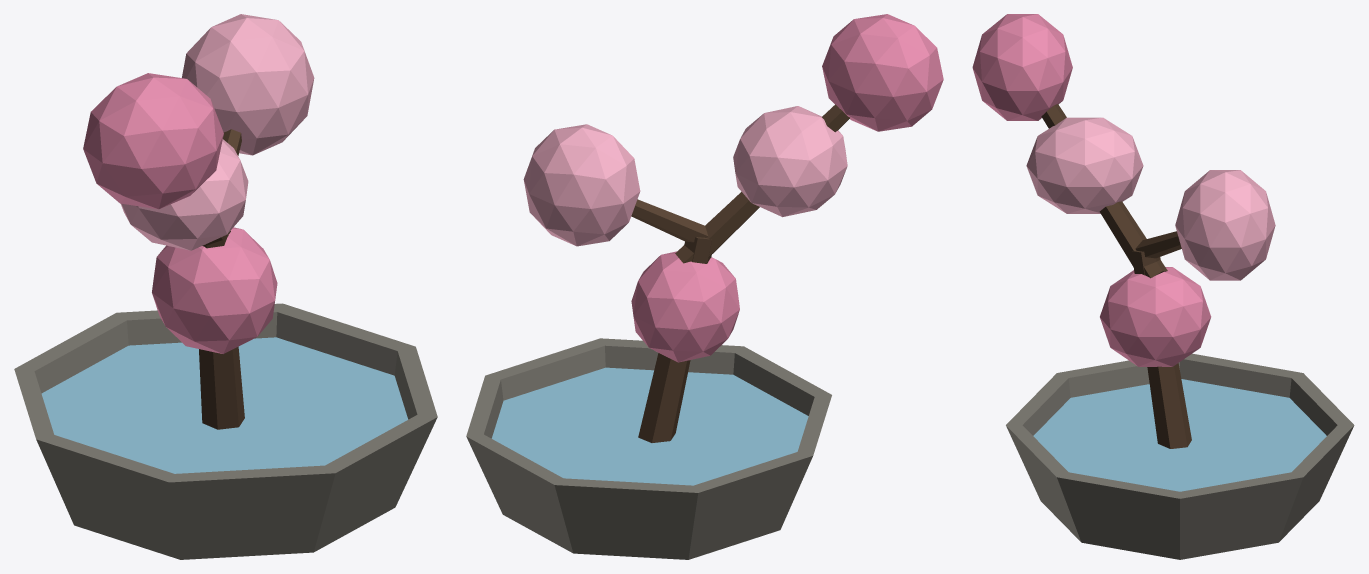
File: sakura_prop_ikebana.glb
3 renders of one model, left to right at view 1: azimuth 30°, elevation 25°; view 2: azimuth 150°, elevation 25°; view 3: azimuth 270°, elevation 25°, orthographic. The views are drawn at different scales.
Parts seen in each view (by area): view 1: sakura_prop_ikebana; view 2: sakura_prop_ikebana; view 3: sakura_prop_ikebana.
Part boxes in pixels (x1,y1,x2,y2): sakura_prop_ikebana: (14, 14, 437, 559); sakura_prop_ikebana: (466, 14, 943, 559); sakura_prop_ikebana: (972, 14, 1354, 559).
Size of the model in its own units: 0.2778 by 0.3303 by 0.2739.
Materials: 1 (1 with a texture image).
